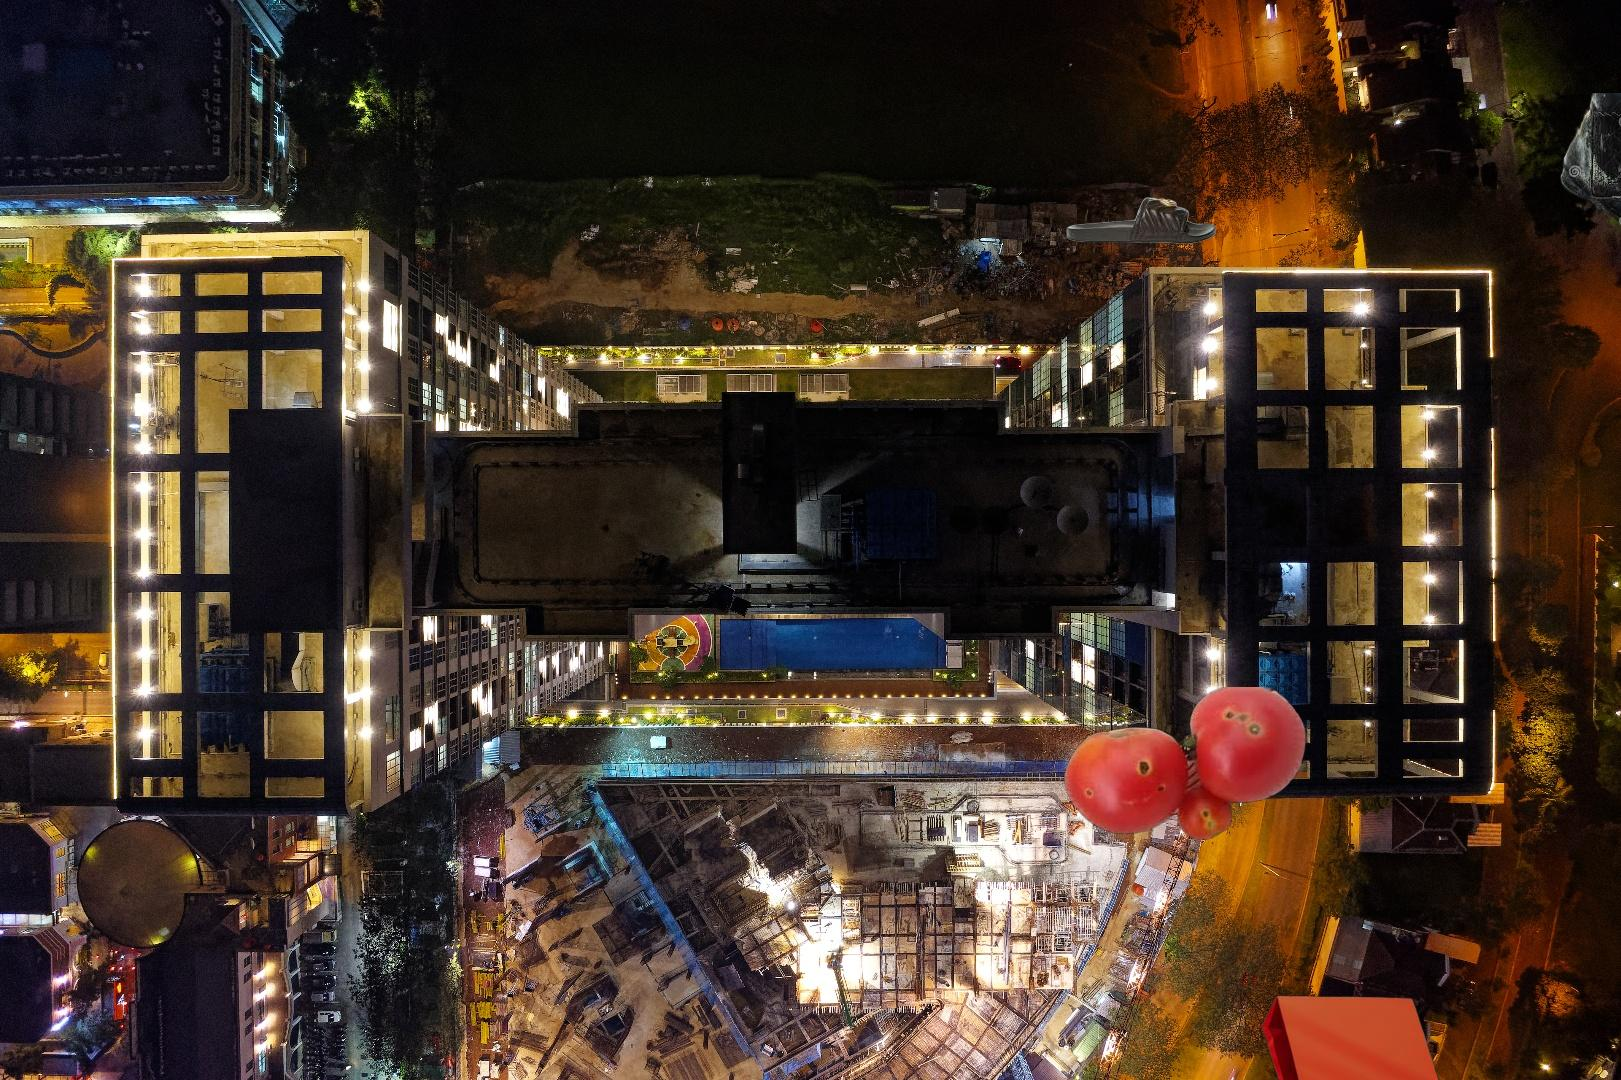biological: (1063, 687, 1309, 843)
paper-bag: (1259, 993, 1449, 1080)
shoes: (1557, 93, 1621, 258), (1063, 193, 1218, 247)
